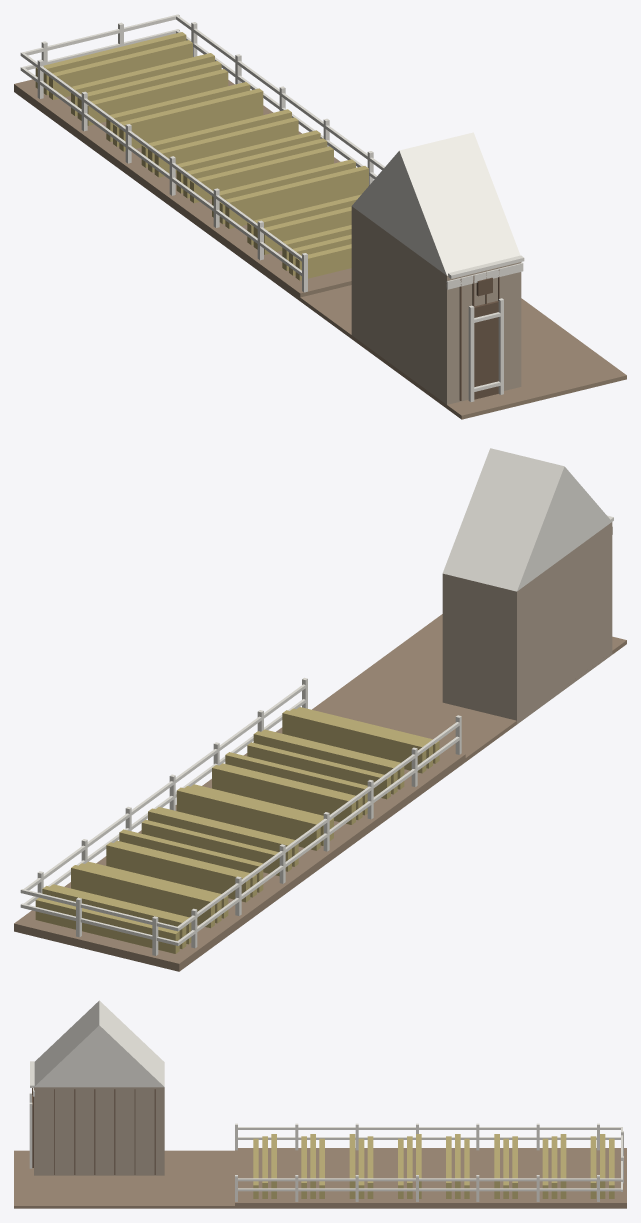
File: farm_1x4_b.glb
3 views of the same model, one above another, from view 1: azimuth 30°, elevation 25°; view 2: azimuth 150°, elevation 25°; view 3: azimuth 270°, elevation 25° (orthographic). The views are drawn at different scales.
Parts seen in each view (by area): view 1: farm_1x4_b_yard; view 2: farm_1x4_b_yard; view 3: farm_1x4_b_yard.
Boxes of the visible parts, x1,y1,x2,y2 form: farm_1x4_b_yard: (14, 14, 626, 419); farm_1x4_b_yard: (14, 448, 626, 971); farm_1x4_b_yard: (14, 1000, 626, 1208).
Size of the model in its own units: 6.5 by 8.4 by 30.5.
